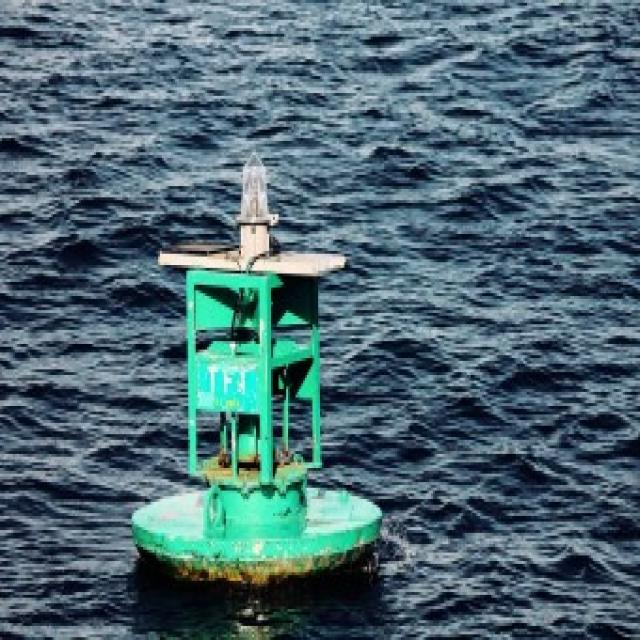2.1 lateral mark -S-: (126, 135, 389, 590)
